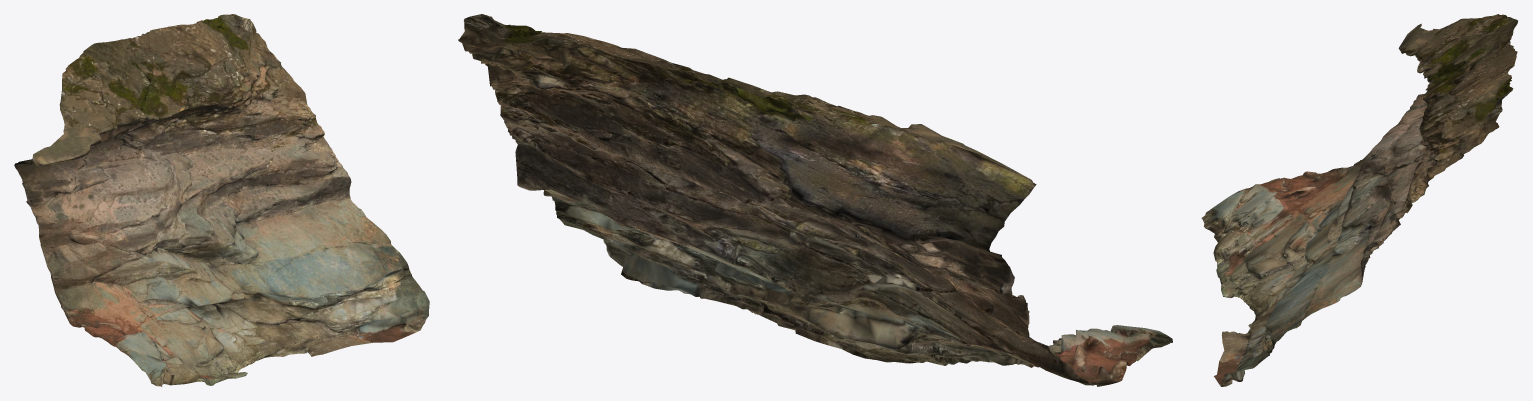
The model's file is rock_face_01.glb.
3 renders of one model, left to right at view 1: azimuth 30°, elevation 25°; view 2: azimuth 150°, elevation 25°; view 3: azimuth 270°, elevation 25°, orthographic. The views are drawn at different scales.
Visible parts, largest first — view 1: rock_face_01; view 2: rock_face_01; view 3: rock_face_01.
Part boxes in pixels (x1=…): rock_face_01: x1=14, y1=14, x2=429, y2=386; rock_face_01: x1=458, y1=14, x2=1172, y2=386; rock_face_01: x1=1201, y1=14, x2=1517, y2=386.
Bounding box in the file's own units: 4.95 × 3.56 × 3.83.
1 material, 1 textured.
